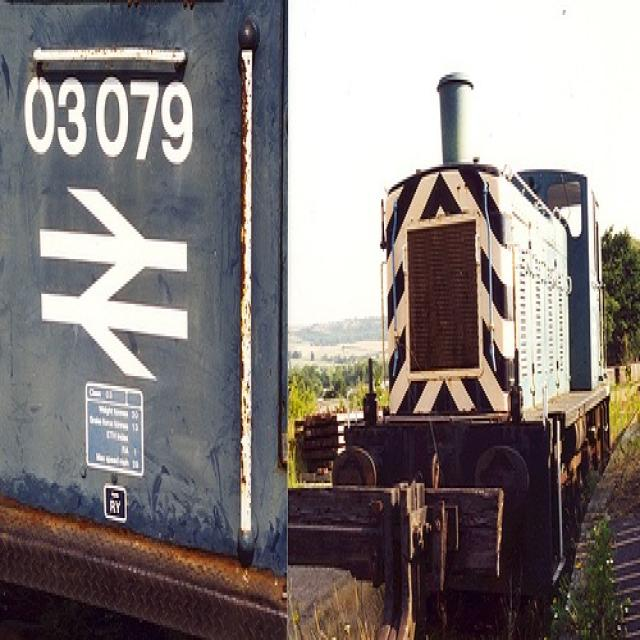train: (326, 62, 614, 590)
